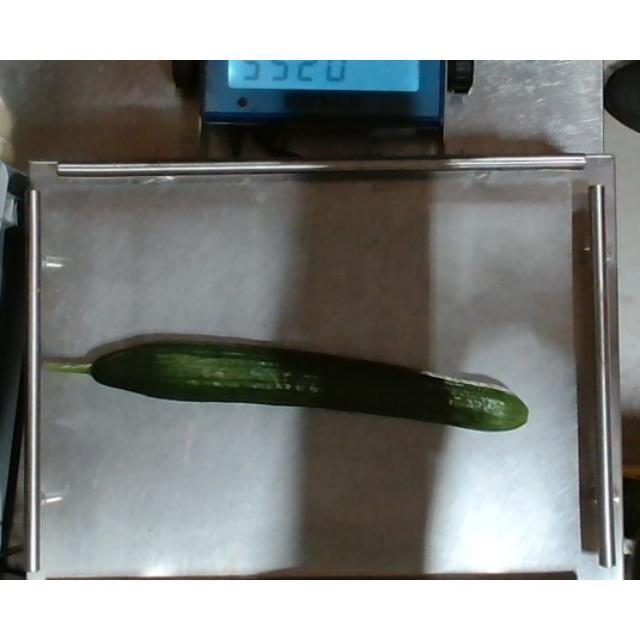cucumber: (38, 340, 530, 432)
